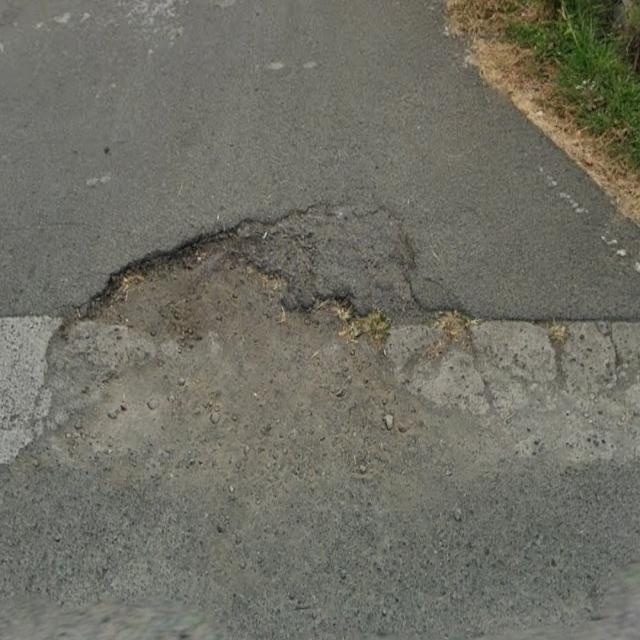pothole: (7, 171, 640, 640)
